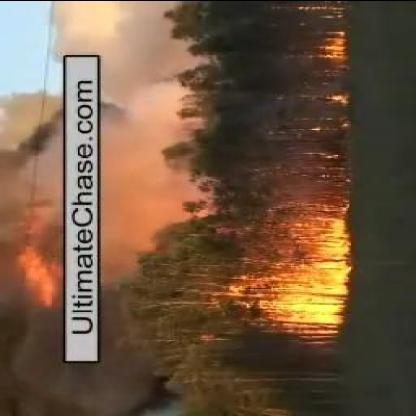-: (0, 92, 62, 404)
foggia-v2-map80-epoch100 - v1 4323: (278, 262, 344, 324)
